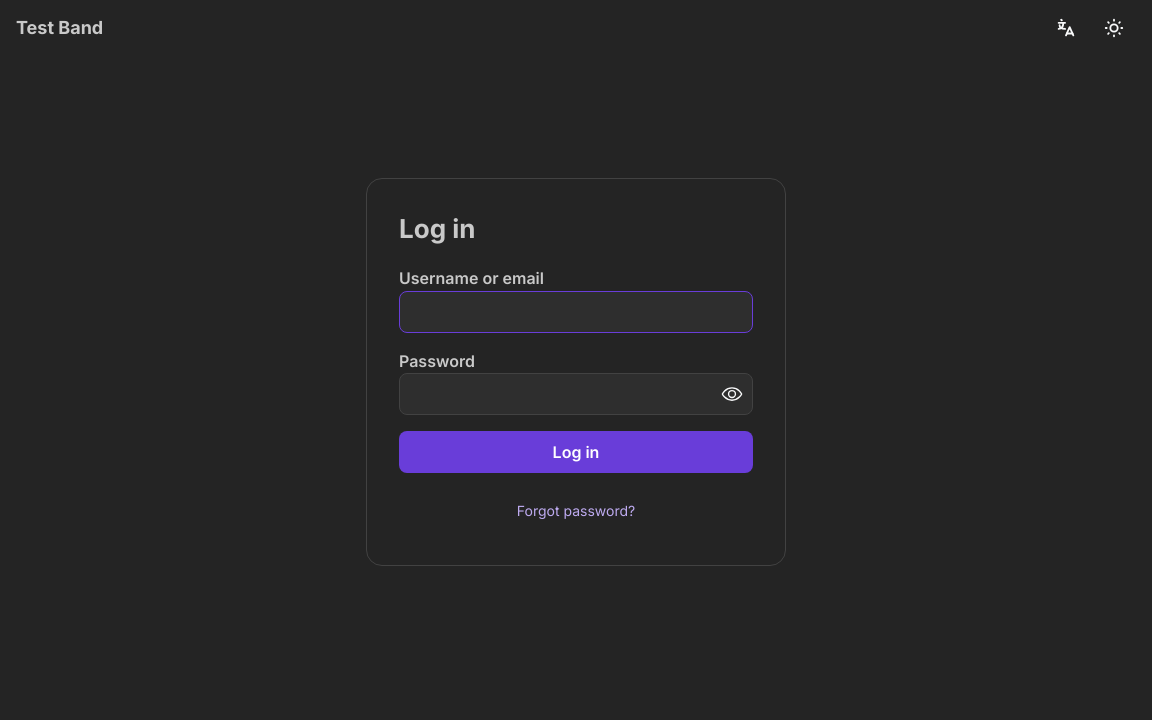
Test case: login page › logs in and continues to the requested page
Type "jana" into the field labelled "Username or email" at point(576, 312), box 399,290 -> 753,332
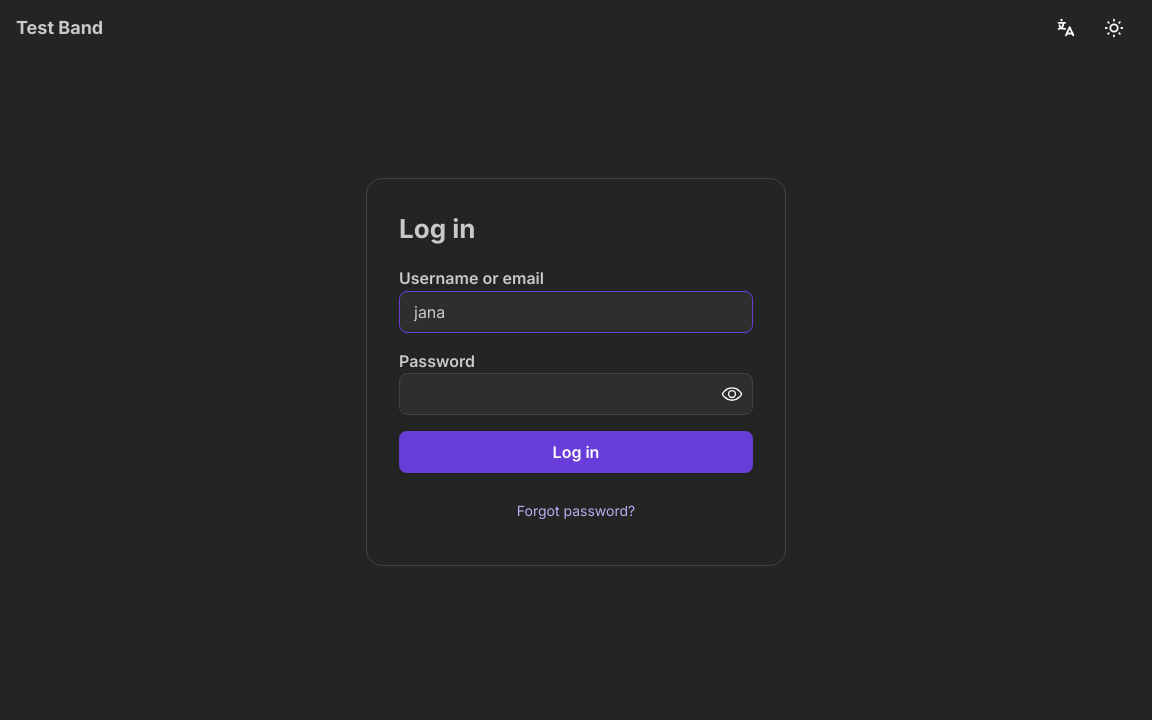
Type "right-password" into the password field labelled "Password" at point(576, 394), box 400,374 -> 752,414
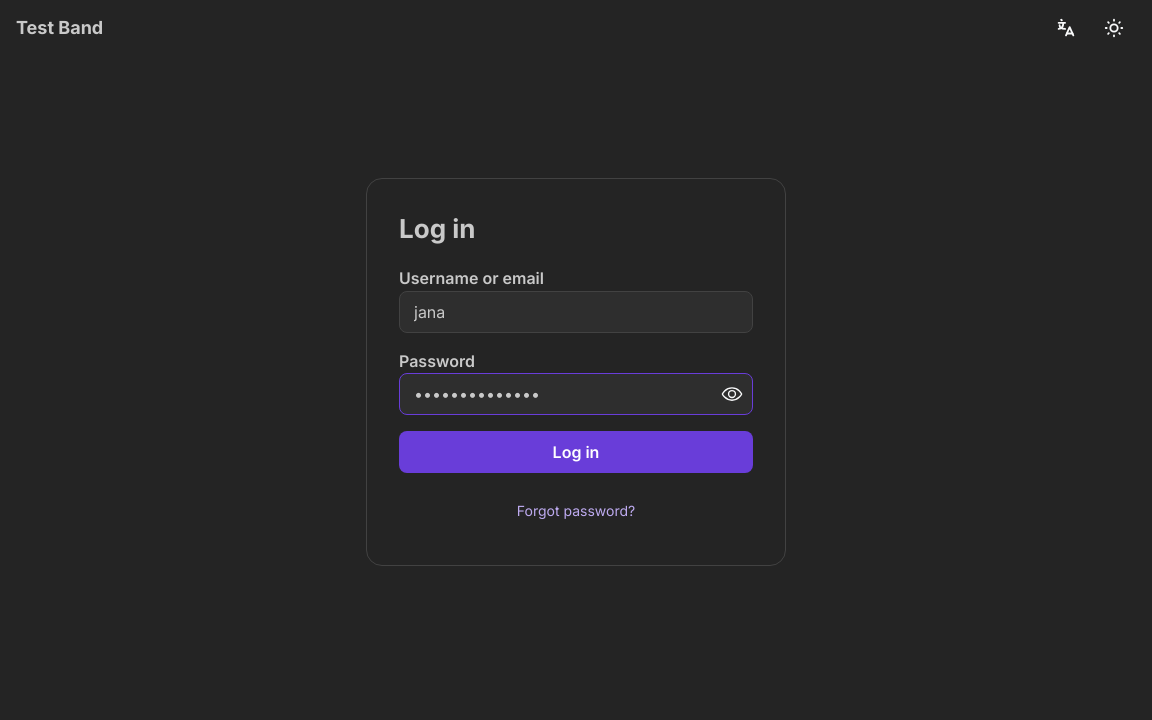
Click the button "Log in" at point(576, 452), box 399,431 -> 753,473
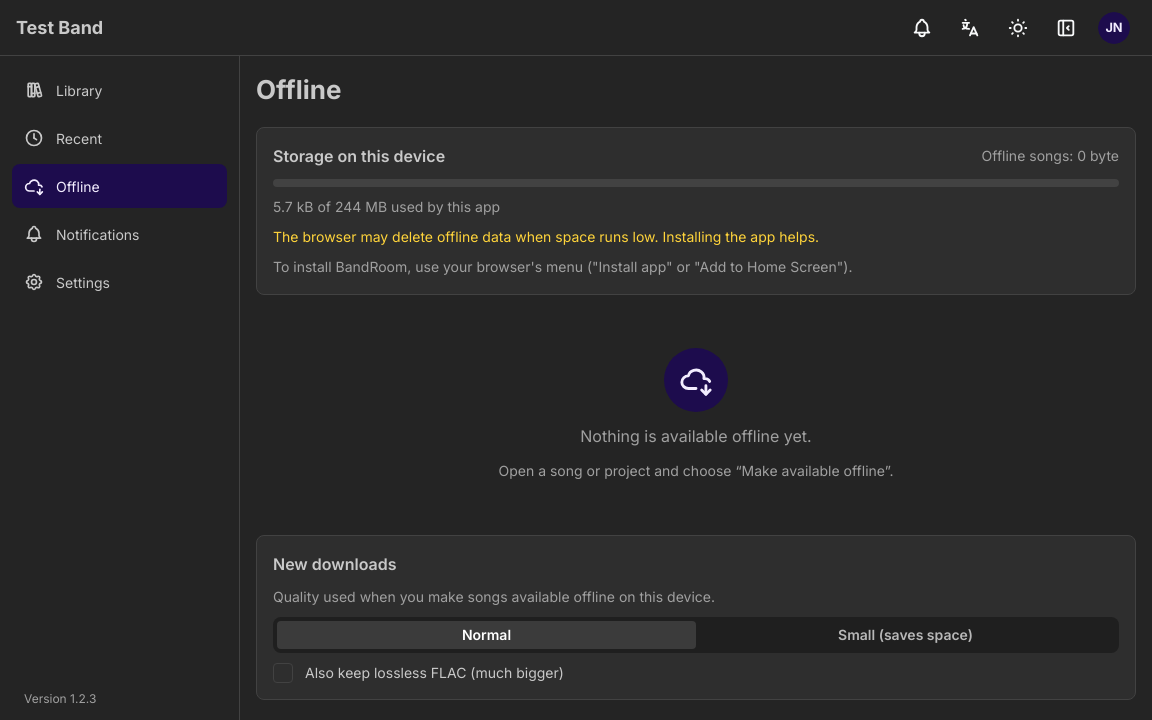
Result: the heading "Offline" is shown at 256,74 -> 341,105
